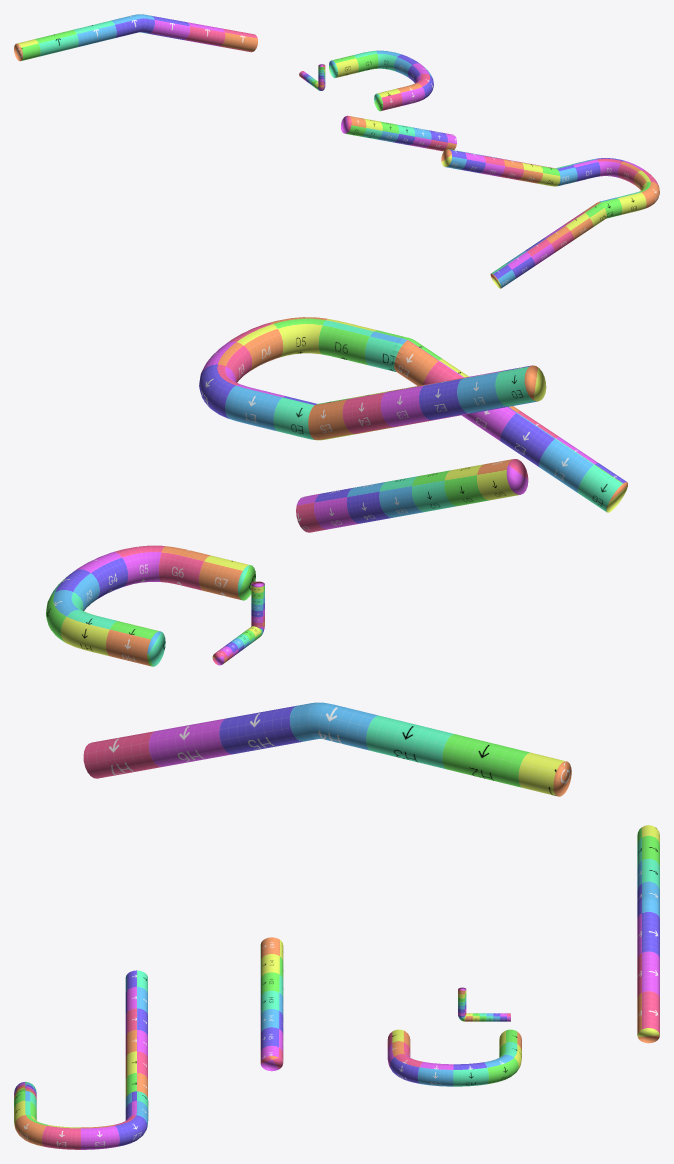
Rendered from stairsrailing.fbx.
The picture shows the model from 3 angles, top to bottom: view 1: azimuth 30°, elevation 25°; view 2: azimuth 150°, elevation 25°; view 3: azimuth 270°, elevation 25°; orthographic projection. The views are drawn at different scales.
Visible parts, largest first — view 1: railpt9, railpt1, railcurve, railpt2; view 2: railpt9, railpt1, railcurve, railpt2, railsupport; view 3: railpt9, railpt1, railcurve, railpt2, railsupport.
Part boxes in pixels (<box>): railpt9: <box>441,149,659,288</box>; railpt1: <box>14,14,257,61</box>; railcurve: <box>329,50,433,111</box>; railpt2: <box>341,115,456,151</box>; railpt9: <box>199,317,627,512</box>; railpt1: <box>83,702,571,796</box>; railcurve: <box>46,545,255,666</box>; railpt2: <box>296,459,528,532</box>; railsupport: <box>212,581,264,665</box>; railpt9: <box>14,970,148,1149</box>; railpt1: <box>637,825,659,1043</box>; railcurve: <box>387,1029,521,1086</box>; railpt2: <box>260,937,283,1071</box>; railsupport: <box>458,987,510,1021</box>.
Size of the model in its own units: 1.03 by 0.2809 by 1.16.
1 material, 1 textured.
